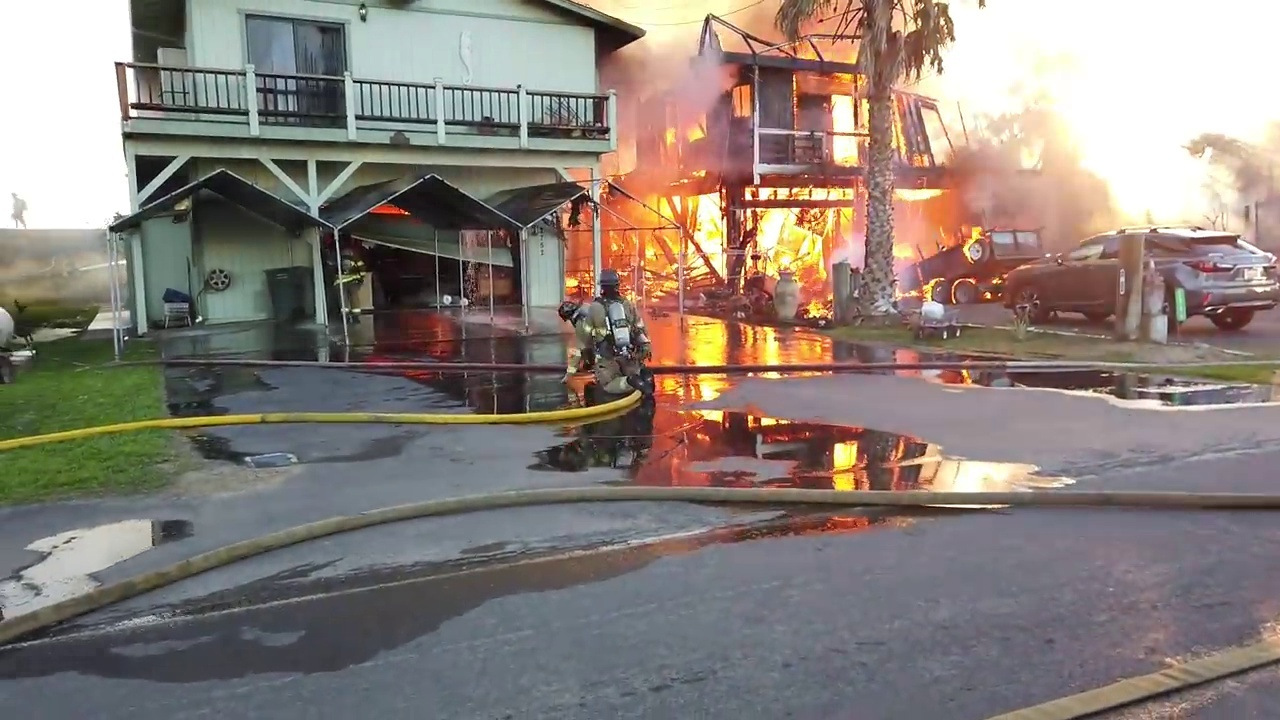fire: (737, 216, 833, 320), (650, 199, 727, 288), (739, 186, 858, 215), (924, 273, 1002, 309), (826, 92, 861, 165), (957, 230, 992, 268), (885, 238, 918, 265), (727, 87, 754, 118), (369, 201, 408, 220)
smoke: (924, 1, 1277, 224), (614, 46, 740, 119), (833, 231, 869, 261)
